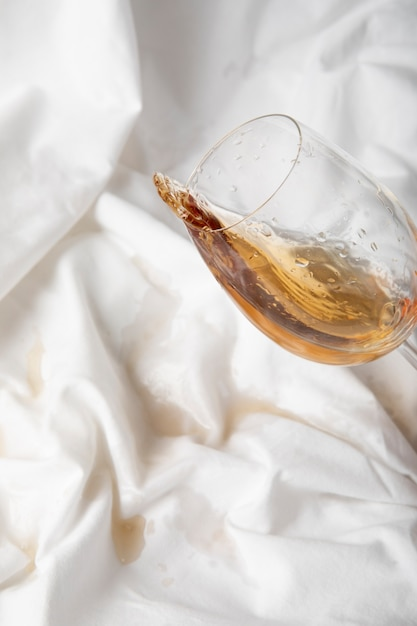alcohol: (152, 111, 417, 370)
